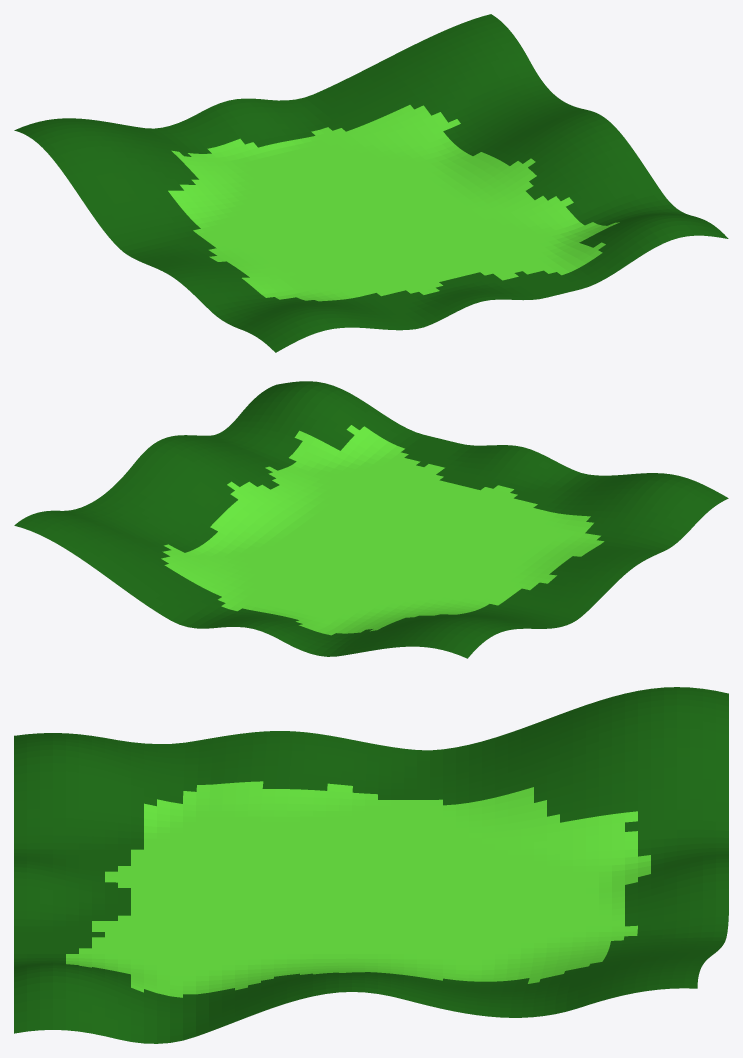
The model's file is Base Mesh f Demoscene.fbx.
3 renders of one model, top to bottom at view 1: azimuth 30°, elevation 25°; view 2: azimuth 150°, elevation 25°; view 3: azimuth 270°, elevation 25°, orthographic. The views are drawn at different scales.
Parts seen in each view (by area): view 1: Plane; view 2: Plane; view 3: Plane.
Boxes of the visible parts, x1=… form: Plane: x1=14, y1=14, x2=728, y2=352; Plane: x1=14, y1=381, x2=728, y2=658; Plane: x1=14, y1=687, x2=728, y2=1043.
Size of the model in its own units: 7287 by 793 by 7059.
